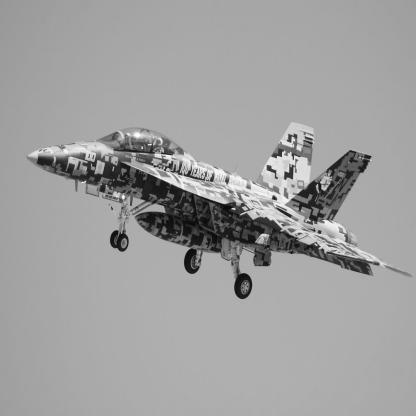F18: (27, 122, 414, 300)
